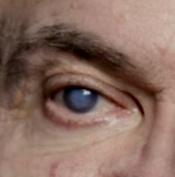eye: (63, 84, 98, 113)
